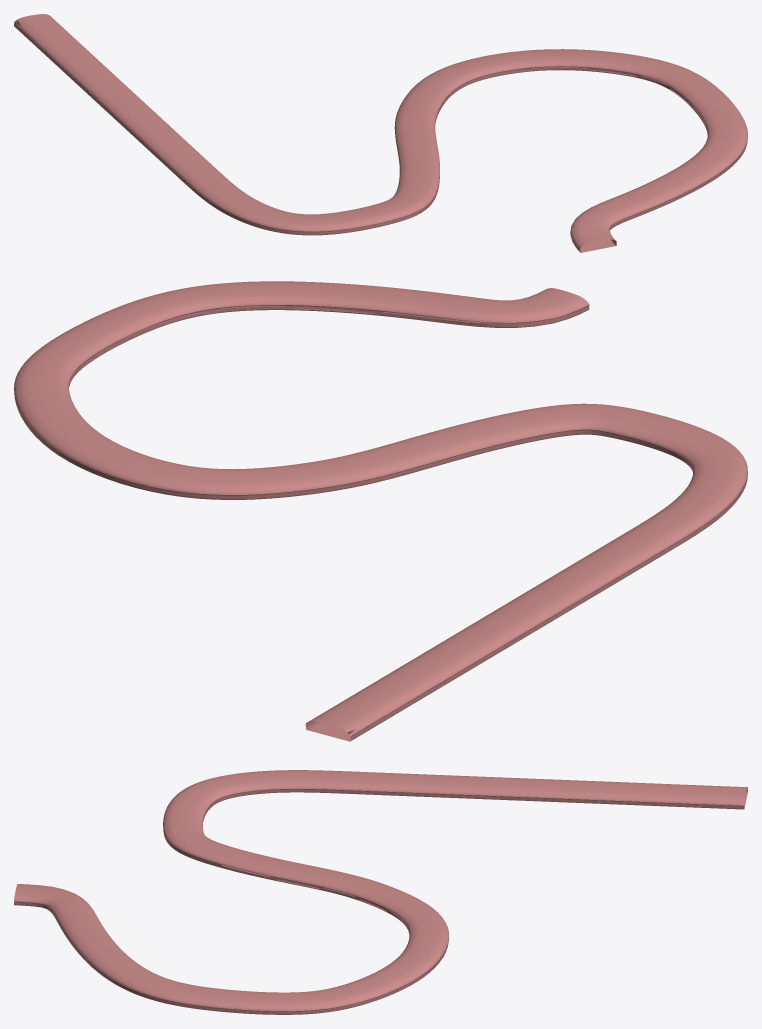
File: future2_track5.fbx
The picture shows the model from 3 angles, top to bottom: view 1: azimuth 30°, elevation 25°; view 2: azimuth 150°, elevation 25°; view 3: azimuth 270°, elevation 25°; orthographic projection. The views are drawn at different scales.
Parts seen in each view (by area): view 1: future2_track5; view 2: future2_track5; view 3: future2_track5.
Part boxes in pixels (<box>): future2_track5: <box>14,14,747,252</box>; future2_track5: <box>14,281,747,741</box>; future2_track5: <box>14,770,747,1014</box>.
Size of the model in its own units: 976 by 20.52 by 1265.
